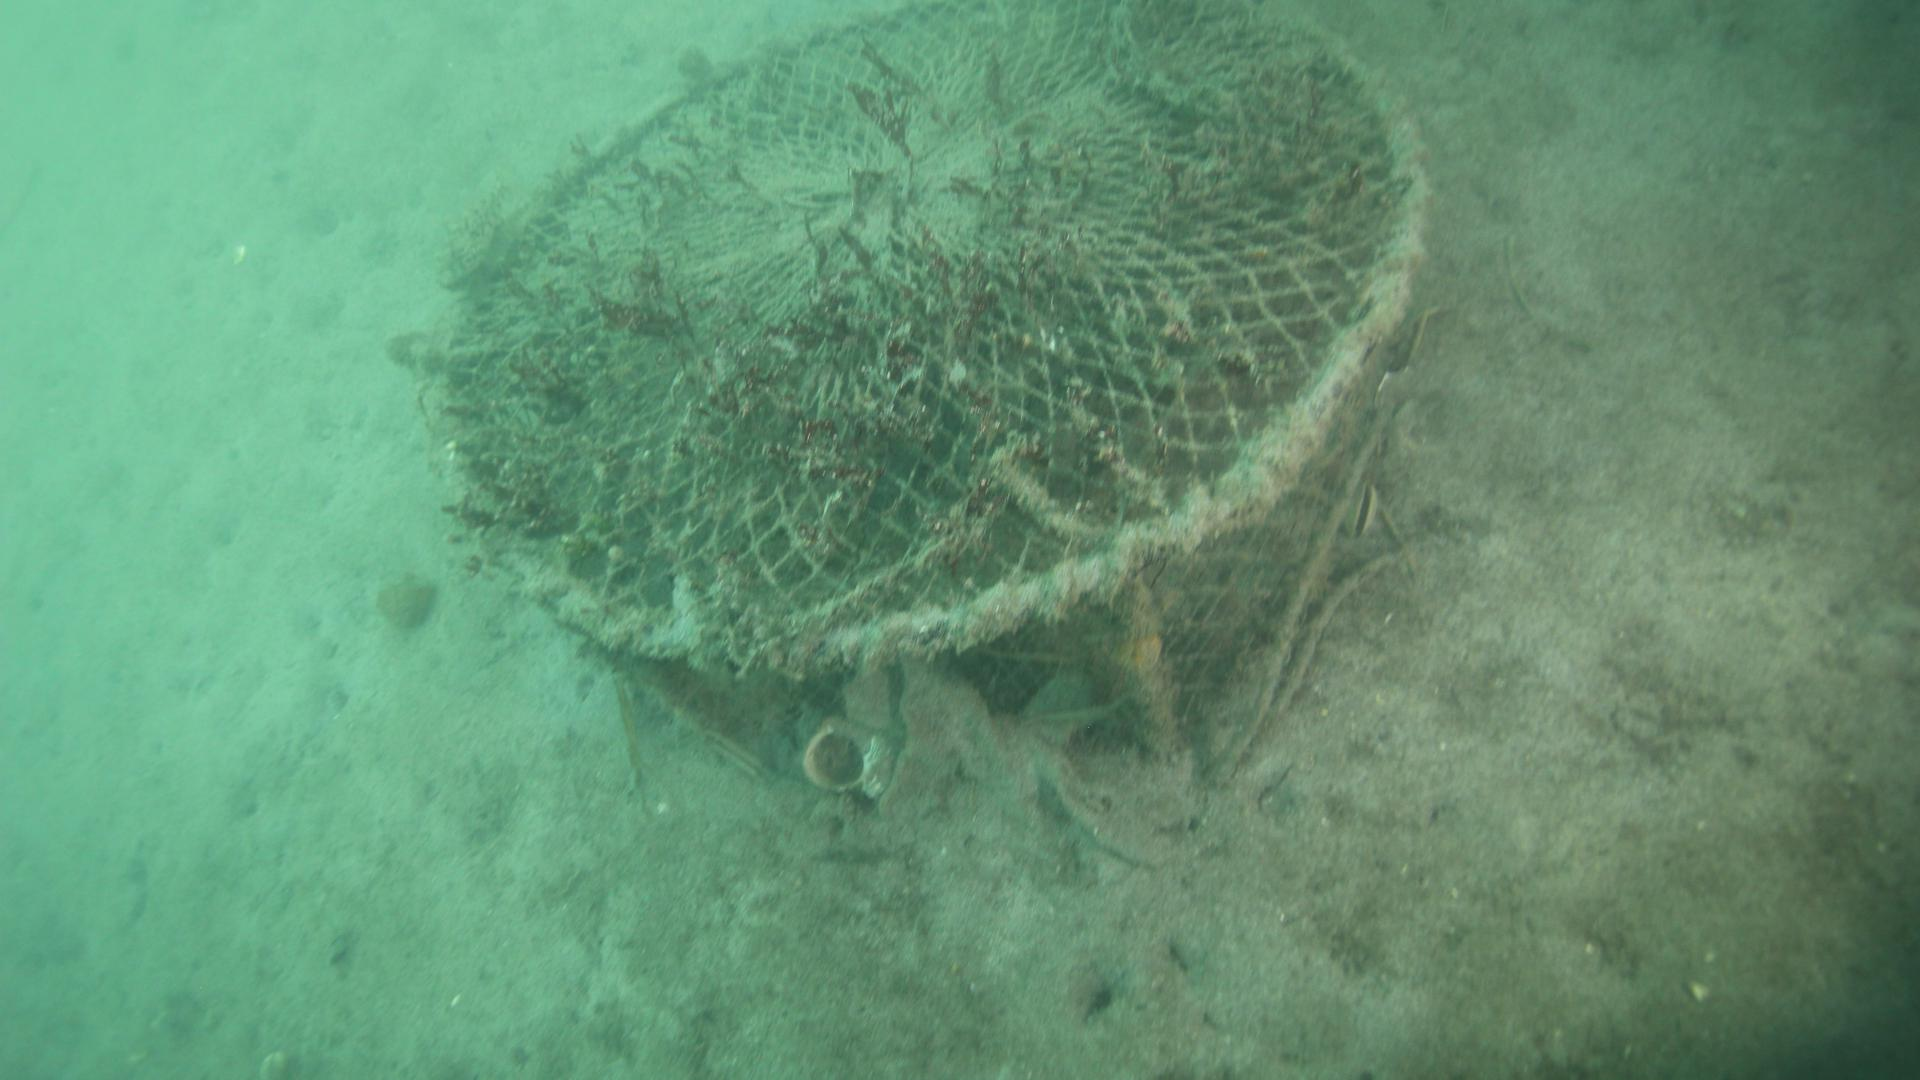circular fish trap: (421, 0, 1447, 775)
